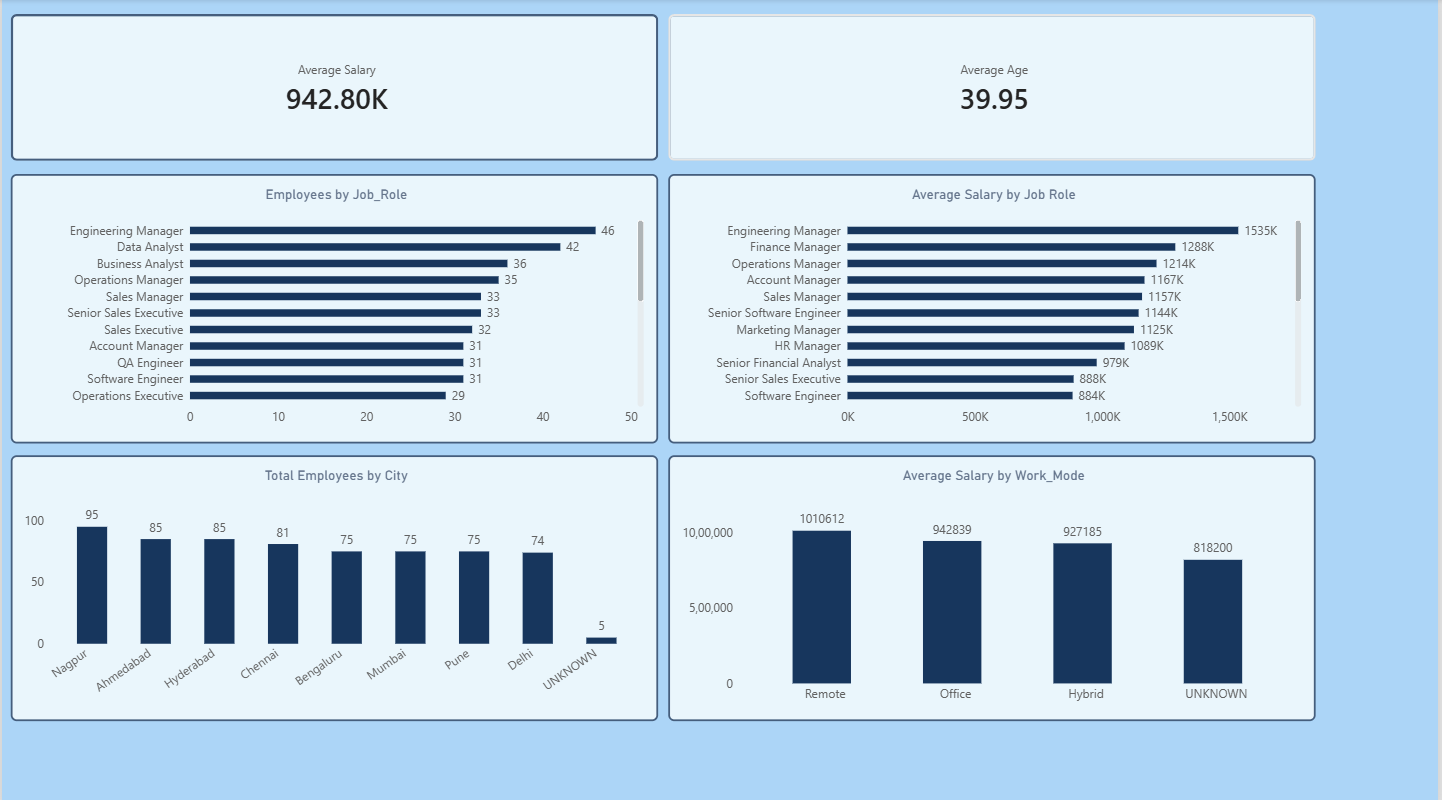

The page's visual inventory and layout, read from the dashboard file:
{"tool":"powerbi","page":{"name":"Workforce & Compensation","canvas":[1920,1080],"ordinal":2},"visuals":[{"type":"cardVisual","fields":{"Data":["Employees.Average Salary"]},"box":[11.7,20,865,196.7],"z":0},{"type":"cardVisual","title":"Average Age","fields":{"Data":["Employees.Average Age"]},"box":[890.6,20,865,196.7],"z":1000},{"type":"clusteredBarChart","title":" Employees by Job_Role","fields":{"Category":["Roles.Job_Role"],"Y":["Employees.Total Employees"]},"box":[11.7,233.3,865,360],"z":2000},{"type":"clusteredBarChart","title":"Average Salary by Job Role","fields":{"Category":["Roles.Job_Role"],"Y":["Employees.Average Salary"]},"box":[890.6,233.3,865,360],"z":3000},{"type":"clusteredColumnChart","fields":{"Category":["Locations.City"],"Y":["Employees.Total Employees"]},"box":[11.7,610,865,355],"z":4000},{"type":"clusteredColumnChart","fields":{"Category":["Locations.Work_Mode"],"Y":["Employees.Average Salary"]},"box":[890.6,610,865,355],"z":5000}]}

Visuals, with their boxes in screenshot pixels (x1, y1, x2, y2), scaled from the page's 1920x1080 canvas onto the 1442x800 screenshot:
cardVisual - Employees.Average Salary: Rect(9, 15, 658, 161)
"Average Age" cardVisual: Rect(669, 15, 1319, 161)
" Employees by Job_Role" clusteredBarChart: Rect(9, 173, 658, 439)
"Average Salary by Job Role" clusteredBarChart: Rect(669, 173, 1319, 439)
clusteredColumnChart - Locations.City x Employees.Total Employees: Rect(9, 452, 658, 715)
clusteredColumnChart - Locations.Work_Mode x Employees.Average Salary: Rect(669, 452, 1319, 715)
